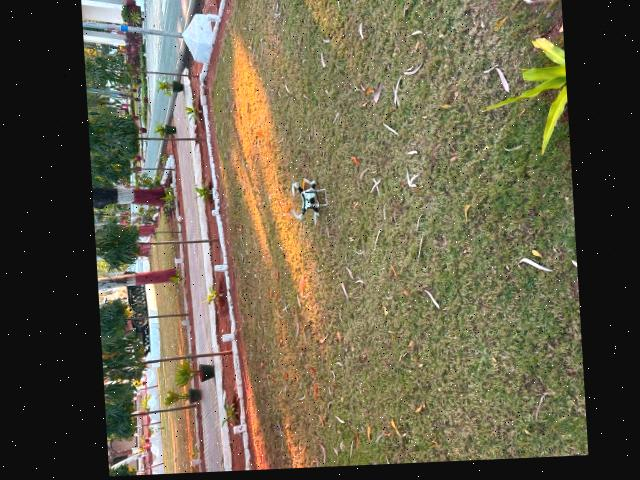drone: (279, 176, 333, 234)
